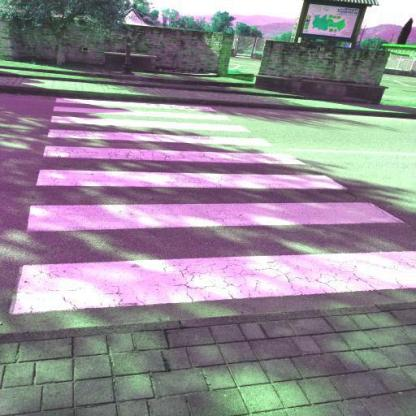crosswalk: (24, 143, 355, 193), (47, 104, 250, 135)
